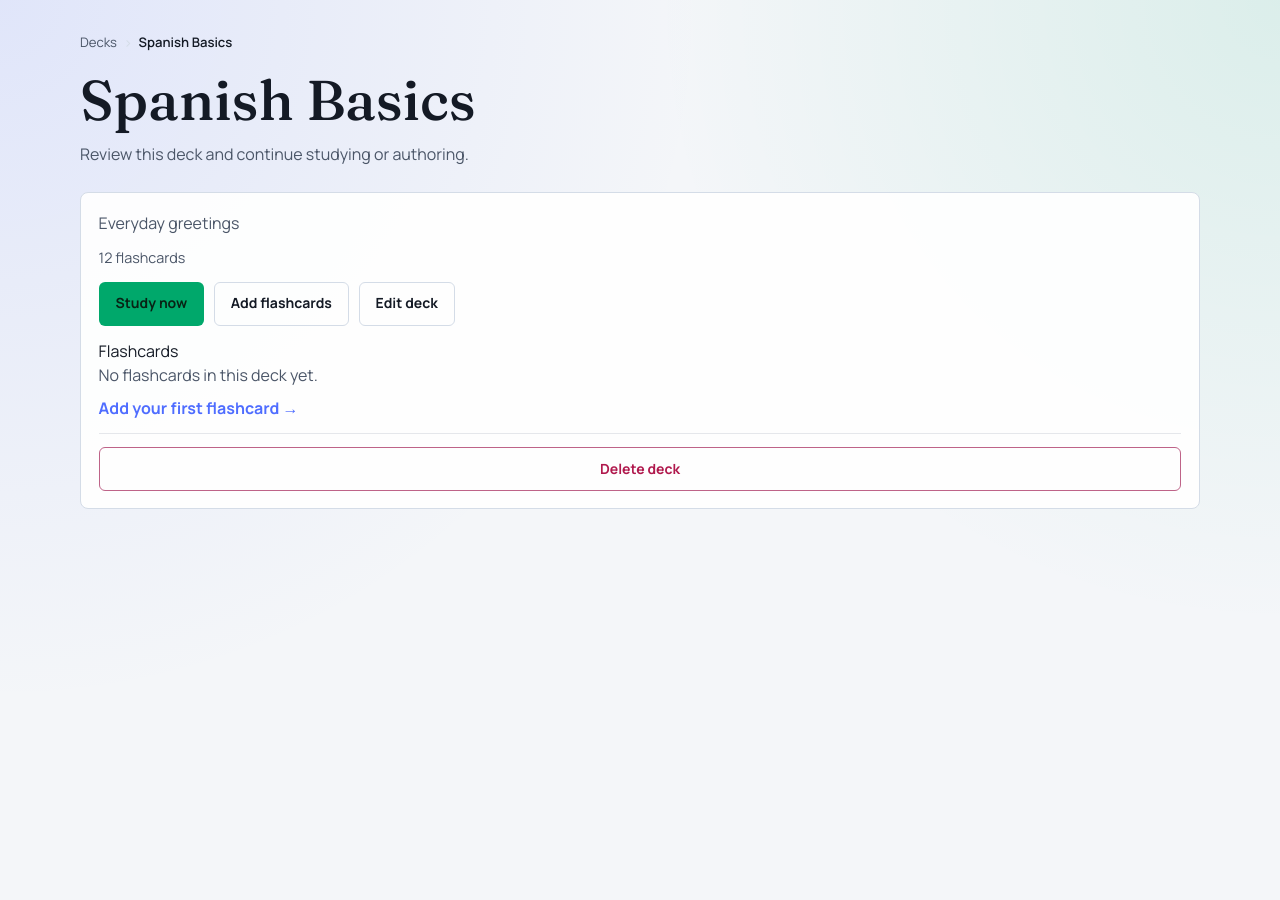
Test: deck routes › Escape key from error_persistence state returns to idle and focuses Delete deck button
Click the button "Delete deck". click: click(640, 469)
box: [99,447,1181,491]
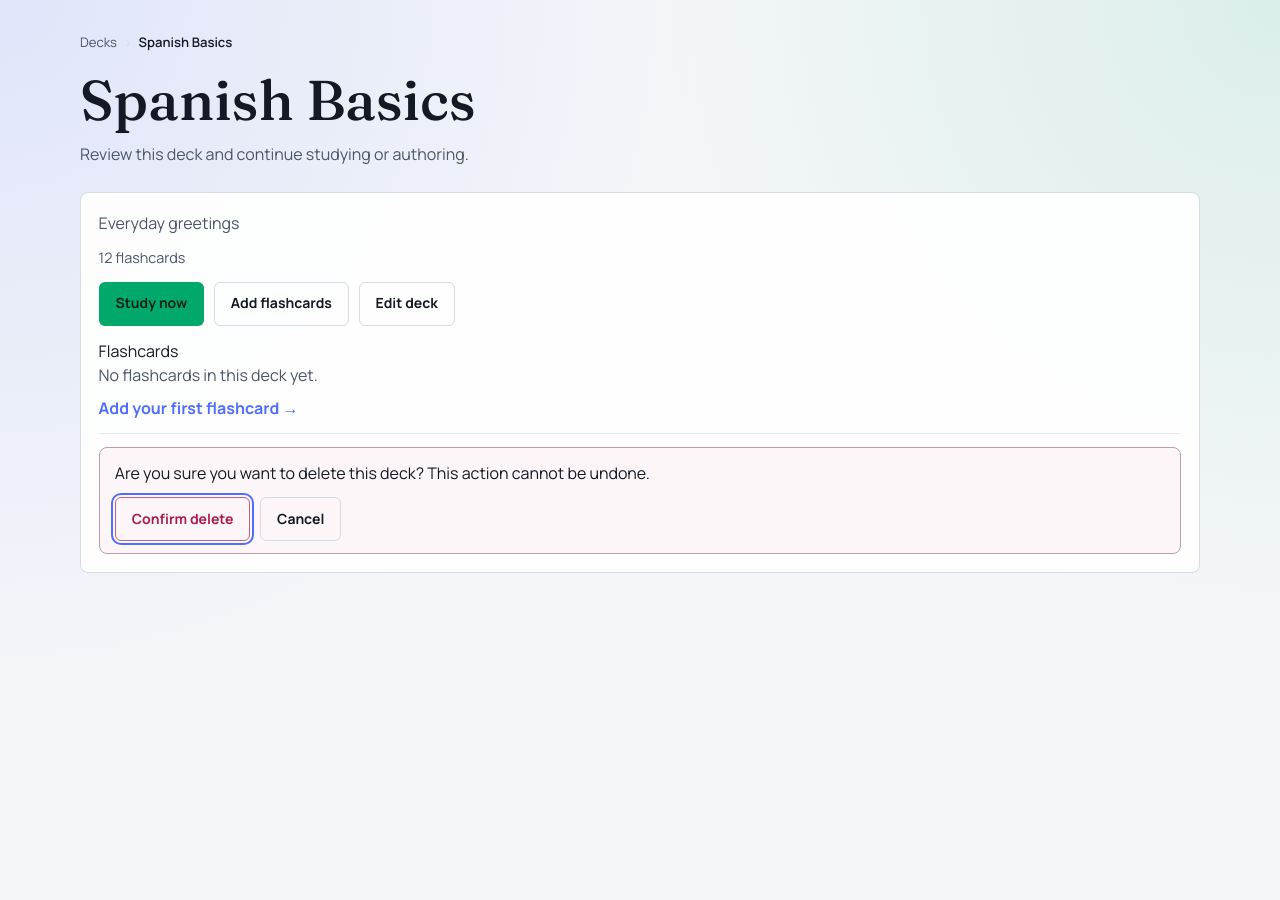
Click the button "Confirm delete". click: click(183, 519)
box: [115,497,250,541]
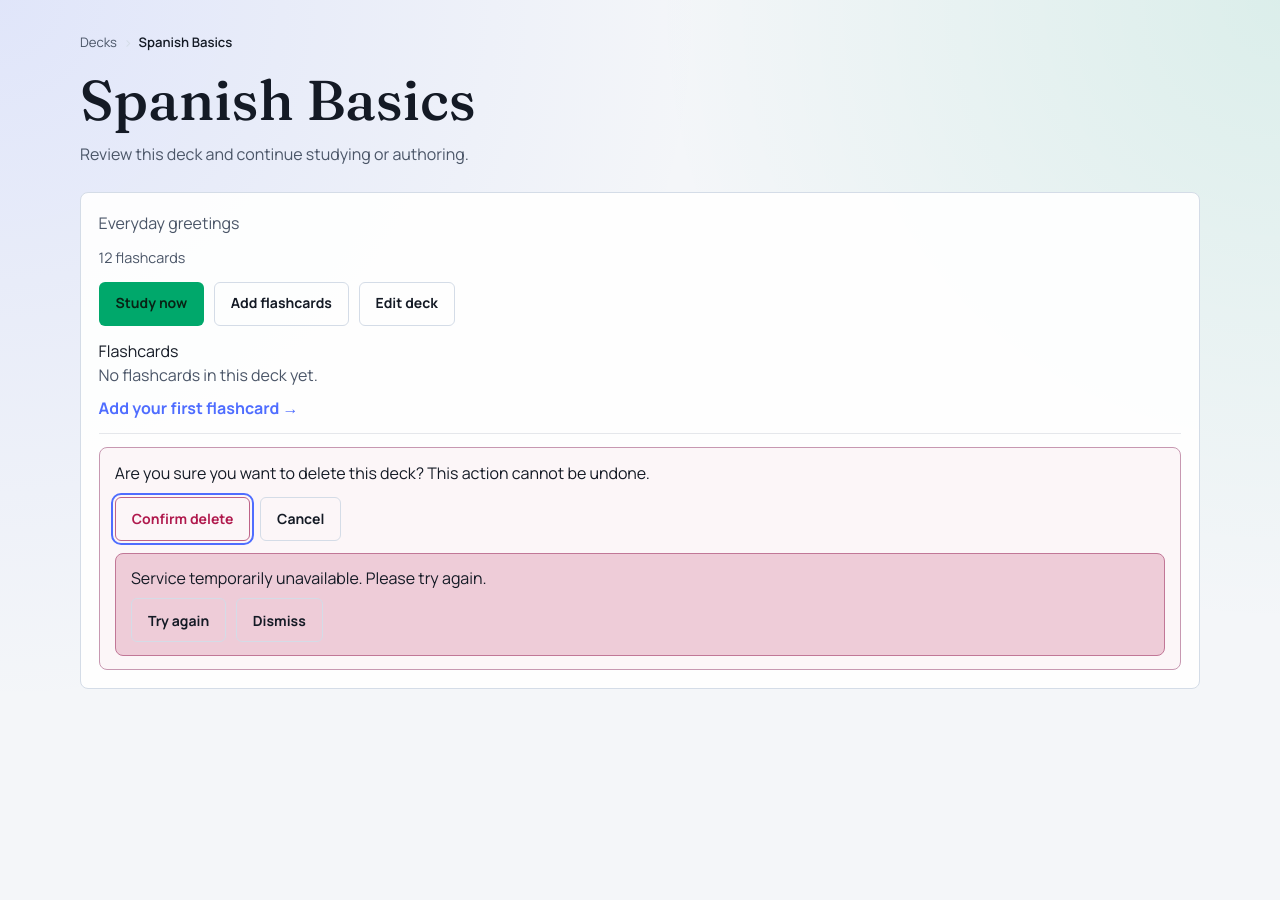
Now the text "Service temporarily unavailable. Please try again." is shown, box [131,567,487,589]
Press Escape
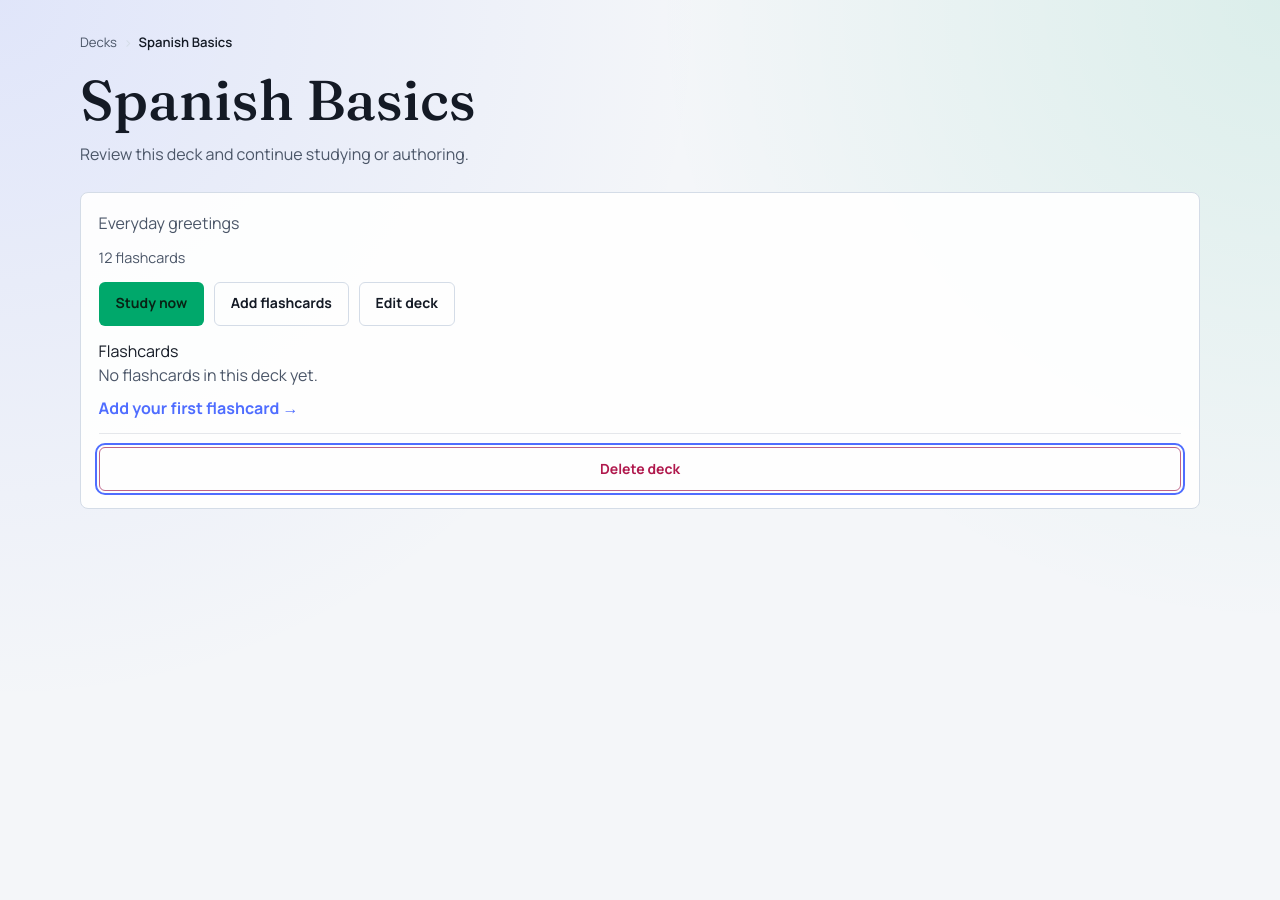
Now the button "Confirm delete" is gone
